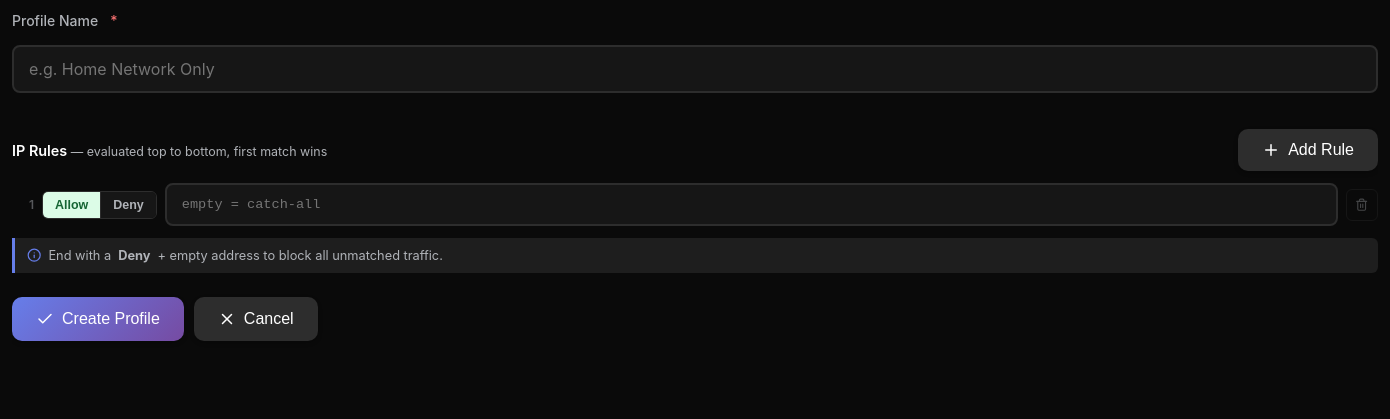
Test: AclProfileForm — address validation › IPv4 with octet > 255 is rejected
Type "My Profile" into the field with placeholder "e.g. Home Network Only".
click(695, 69); type("My Profile")  # box [12,45,1378,93]
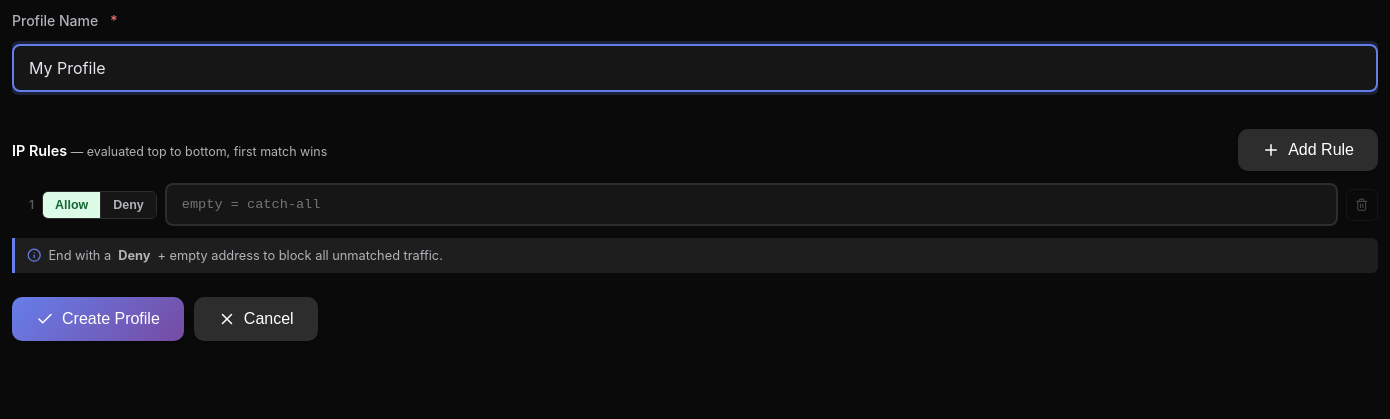
Clear the field with placeholder "empty = catch-all" at x=751, y=204, box [165,183,1338,226]
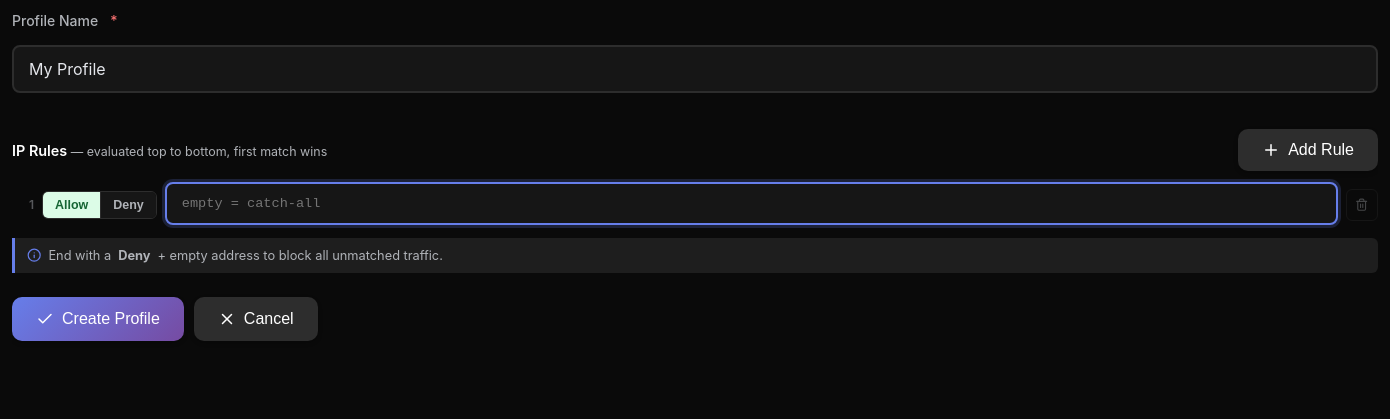
Type "256.0.0.1" into the field with placeholder "empty = catch-all".
click(751, 204); type("256.0.0.1")  # box [165,182,1338,225]
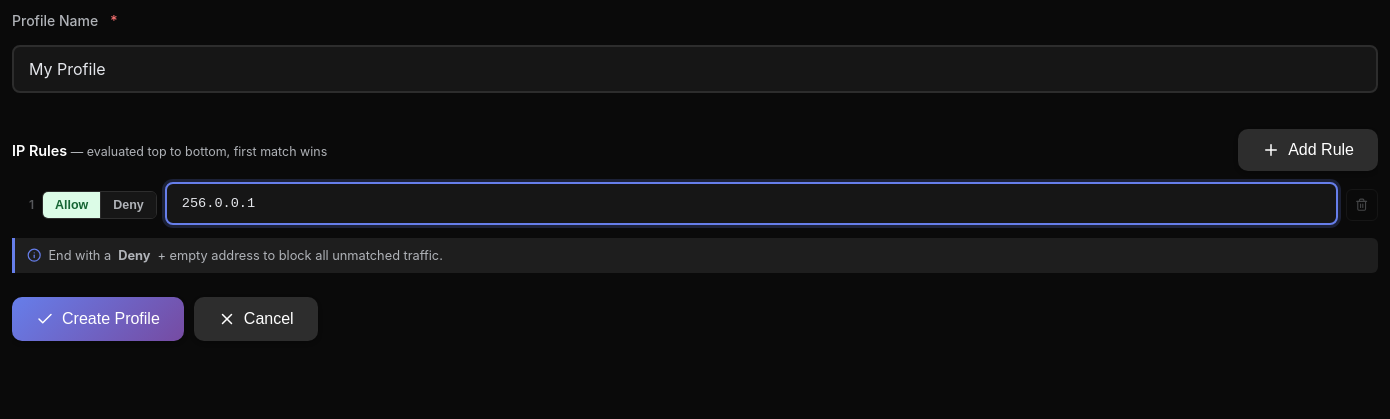
Click the button "Create Profile".
click(98, 319)  # box [12,297,184,341]
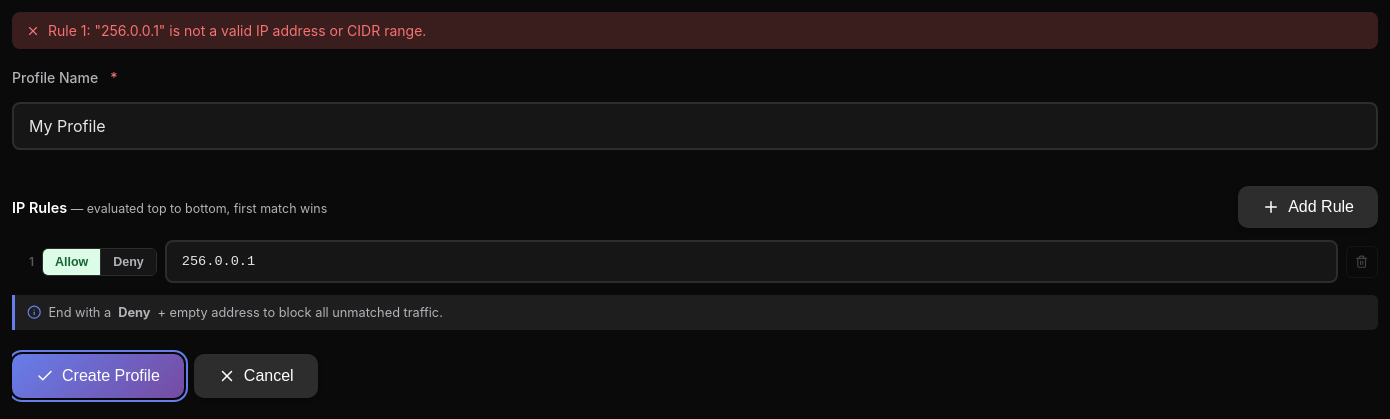
Expected: the message shows "not a valid IP", [48,22,426,39]
